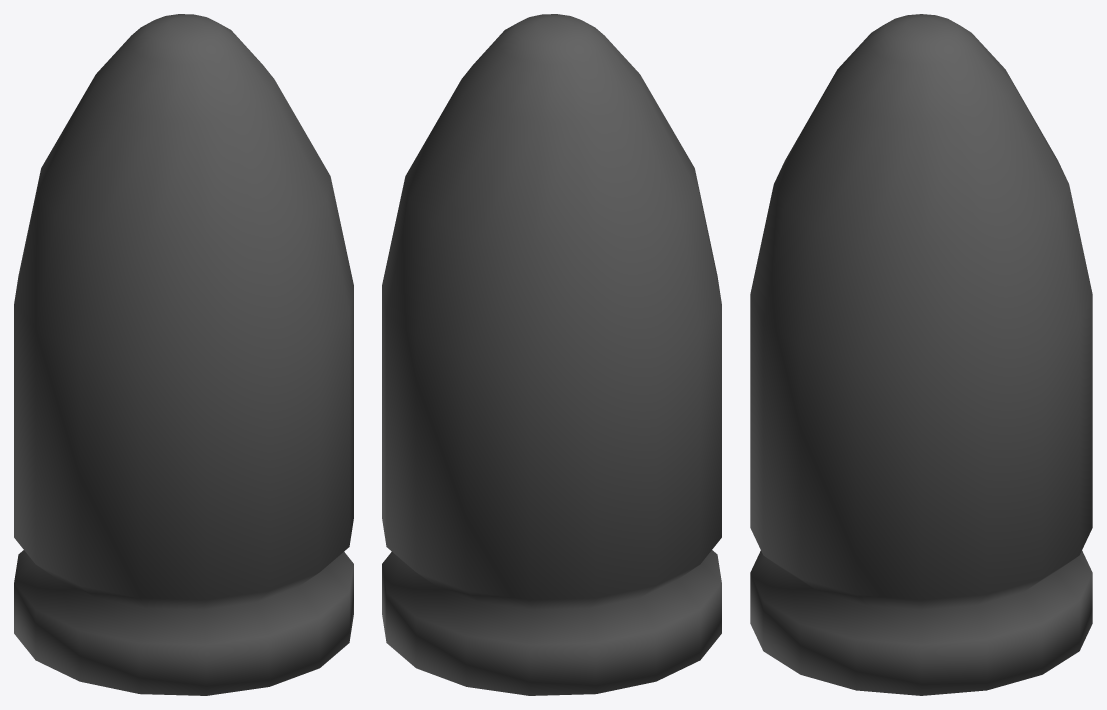
File: balle.fbx
3 views of the same model, side by side, from view 1: azimuth 30°, elevation 25°; view 2: azimuth 150°, elevation 25°; view 3: azimuth 270°, elevation 25° (orthographic).
Parts seen in each view (by area): view 1: Cylinder; view 2: Cylinder; view 3: Cylinder.
Part boxes in pixels (<box>): Cylinder: <box>14,14,353,695</box>; Cylinder: <box>382,14,721,695</box>; Cylinder: <box>750,14,1092,695</box>.
Bounding box in the file's own units: 0.6834 × 1.32 × 0.6834.
